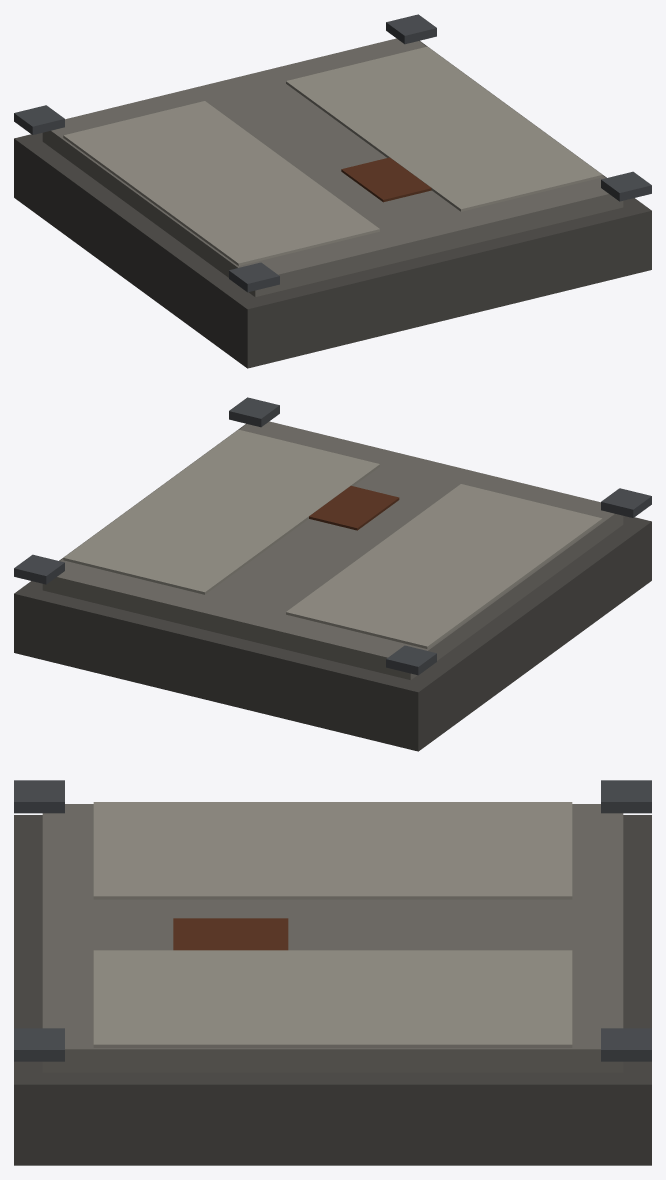
Rendered from piece_foundation.fbx.
3 renders of one model, top to bottom at view 1: azimuth 30°, elevation 25°; view 2: azimuth 150°, elevation 25°; view 3: azimuth 270°, elevation 25°, orthographic. The views are drawn at different scales.
Visible parts, largest first — view 1: piece_foundation; view 2: piece_foundation; view 3: piece_foundation.
Boxes of the visible parts, left/top/right/bottom form: piece_foundation: left=14, top=14, right=651, bottom=368; piece_foundation: left=14, top=397, right=651, bottom=751; piece_foundation: left=14, top=780, right=651, bottom=1165.
Bounding box in the file's own units: 2 × 0.4 × 2.
